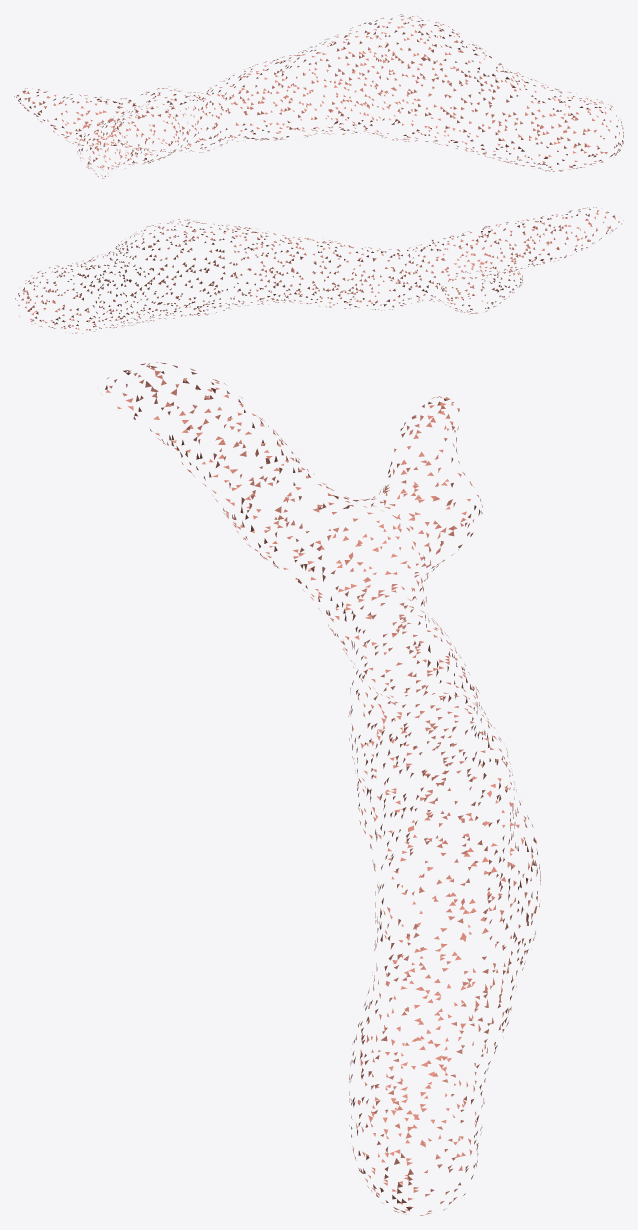
Rendered from morph_002.glb.
3 views of the same model, one above another, from view 1: azimuth 30°, elevation 25°; view 2: azimuth 150°, elevation 25°; view 3: azimuth 270°, elevation 25° (orthographic). The views are drawn at different scales.
Bounding box in the file's own units: 130 × 43.98 × 47.57.
